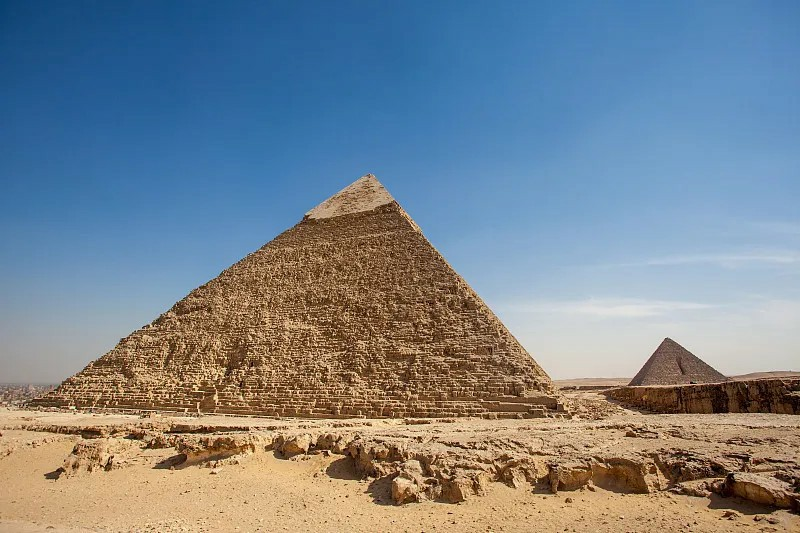Pyramid: (26, 173, 572, 416), (627, 338, 735, 385)
